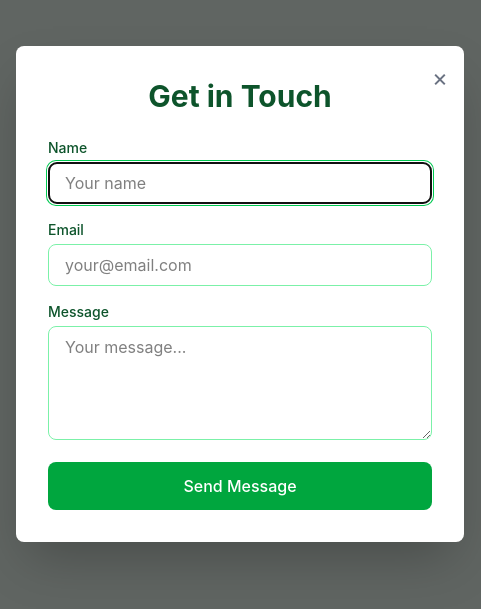
Scenario: ContactModal › shows API error feedback when submission fails
Type "Farmer John" into the field labelled "Name".
click(240, 183); type("Farmer John")  # box [48,162,432,204]
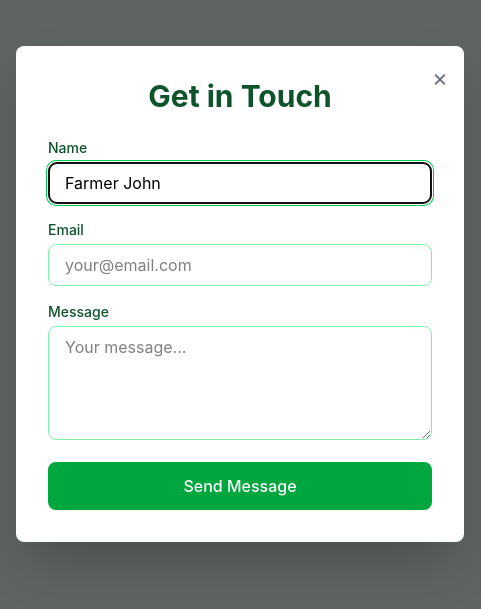
Type "john@example.com" into the field labelled "Email".
click(240, 265); type("john@example.com")  # box [48,244,432,286]
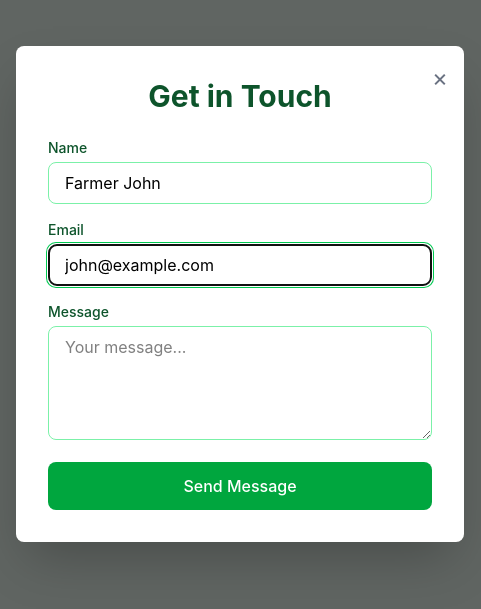
Type "Need details on bulk produce ordering next week." into the text box labelled "Message".
click(240, 383); type("Need details on bulk produce ordering next week.")  # box [48,326,432,440]
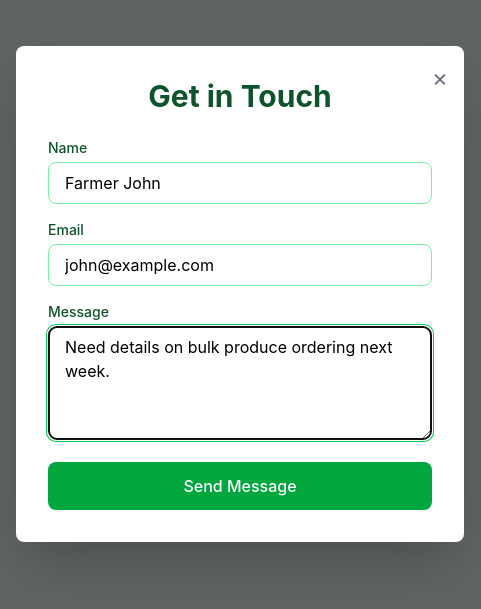
Click the button "Send Message".
click(240, 486)  # box [48,462,432,510]
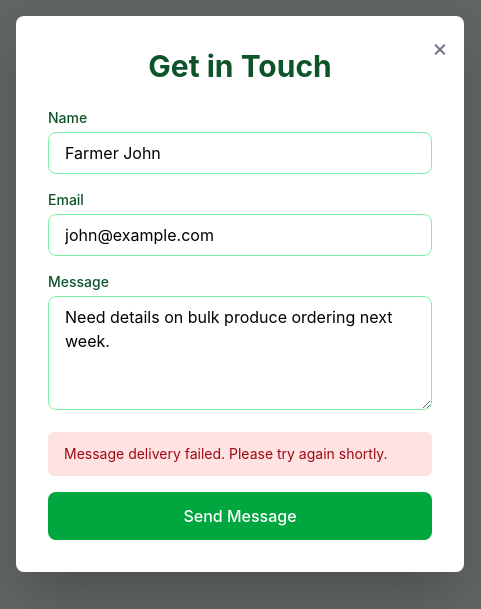
Result: the text "Message delivery failed. Please try again shortly." is shown at [48,432,432,476]
